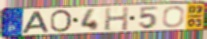4: (80, 8, 102, 32)
5: (138, 5, 160, 30)
A: (21, 11, 50, 34)
H: (104, 6, 130, 32)
O: (161, 5, 187, 29), (49, 9, 73, 33)
